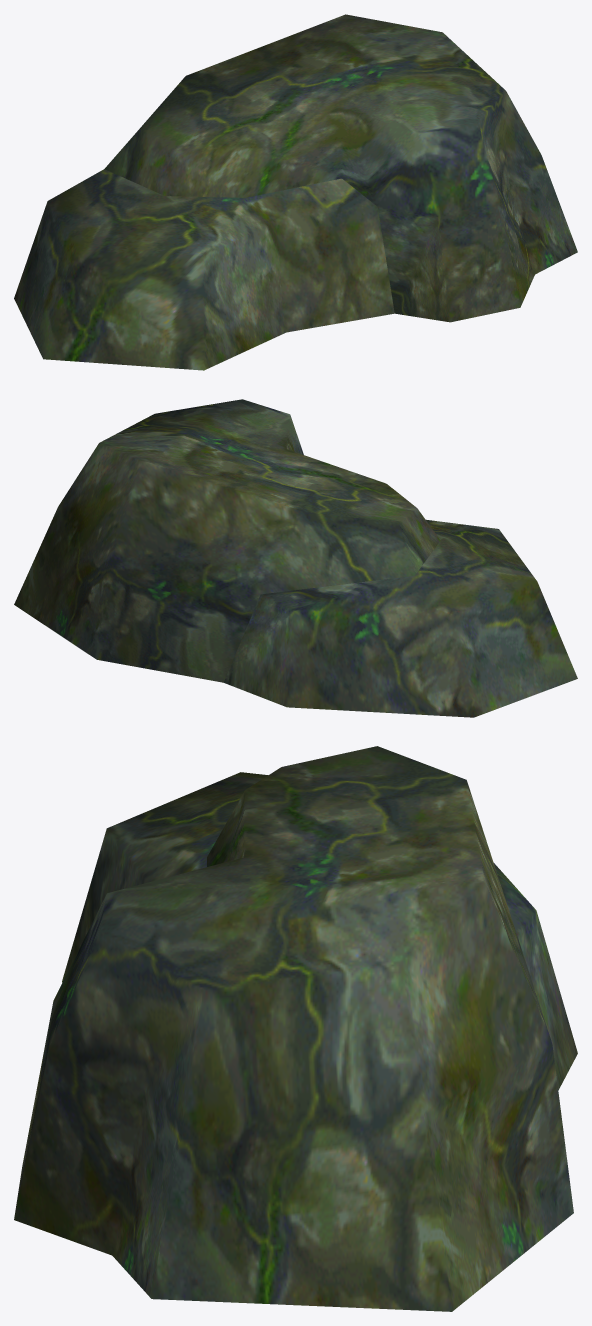
Rendered from 10104_Stone02.FBX.
3 renders of one model, top to bottom at view 1: azimuth 30°, elevation 25°; view 2: azimuth 150°, elevation 25°; view 3: azimuth 270°, elevation 25°, orthographic. The views are drawn at different scales.
Visible parts, largest first — view 1: Rock08; view 2: Rock08; view 3: Rock08.
Boxes of the visible parts, <box> form: Rock08: <box>14,14,577,370</box>; Rock08: <box>14,399,577,717</box>; Rock08: <box>14,746,577,1311</box>.
Size of the model in its own units: 263 by 92.66 by 151.
